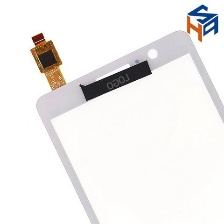phone: (24, 27, 224, 223)
